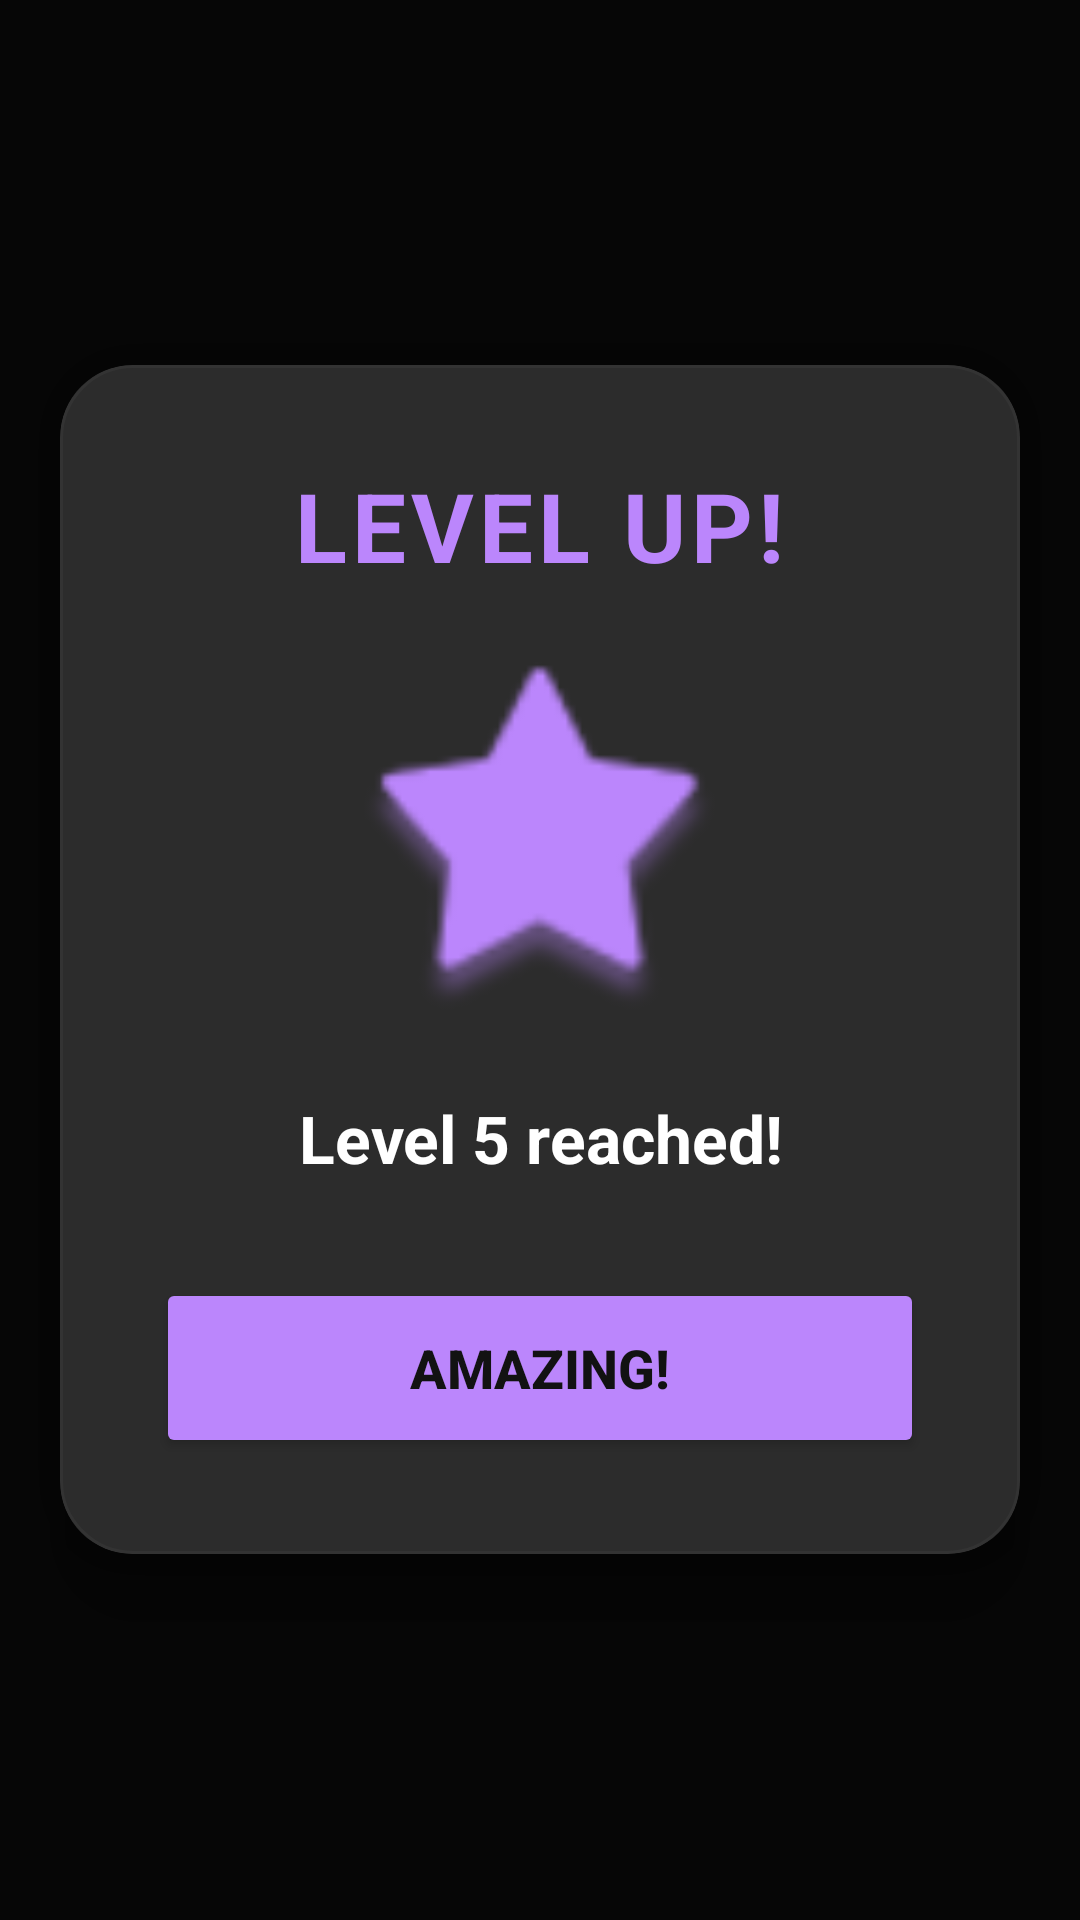

Locate icon controls on the screen. Image size 1080px×1920px, boxes as (left=x1, top=y1, right=x2, bottom=y2).
star on: (left=380, top=666, right=700, bottom=991)
